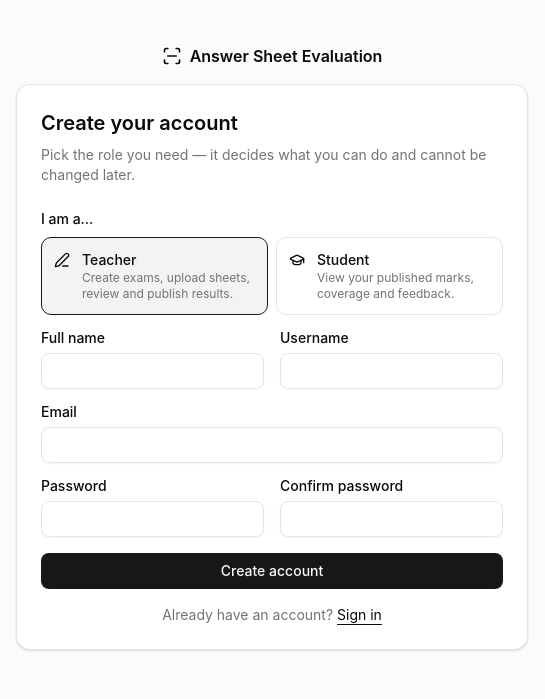
Test: Signup › surfaces a field-keyed 400 from the server
Step 1. Type "A Deepika" into the field labelled "Full name" → coordinates (152, 371), box left=41, top=353, right=264, bottom=389
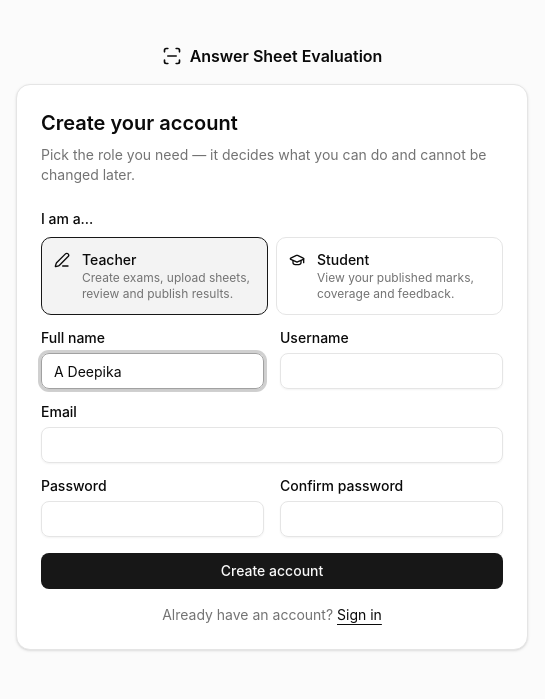
Step 2. Type "deepika" into the field labelled "Username" → coordinates (392, 371), box left=280, top=353, right=503, bottom=389
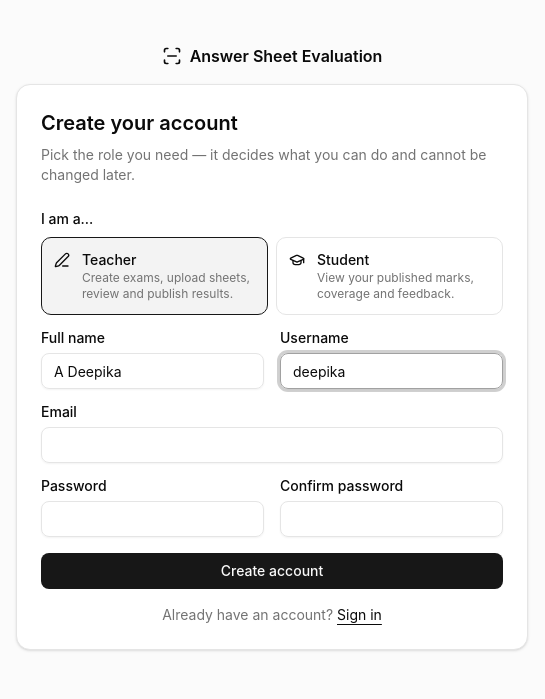
Step 3. Type "deepika@bmsit.in" into the field labelled "Email" → coordinates (272, 445), box left=41, top=427, right=503, bottom=463
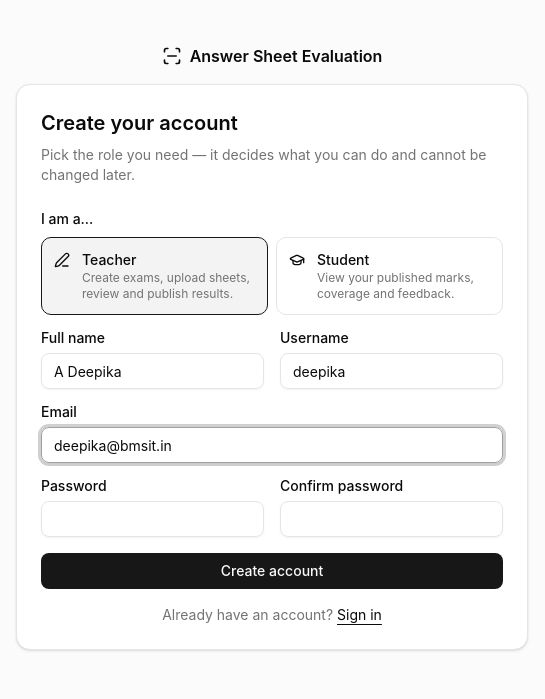
Step 4. Type "correct-horse" into the password field labelled "Password" → coordinates (152, 519), box left=41, top=501, right=264, bottom=537
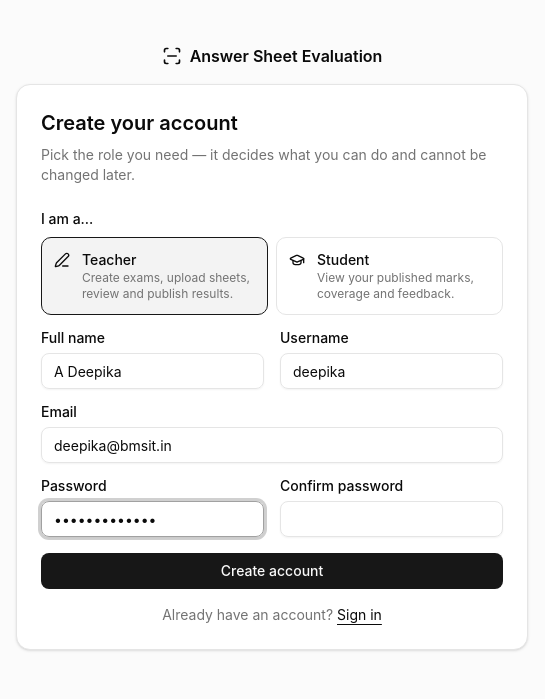
Step 5. Type "correct-horse" into the password field labelled "Confirm password" → coordinates (392, 519), box left=280, top=501, right=503, bottom=537
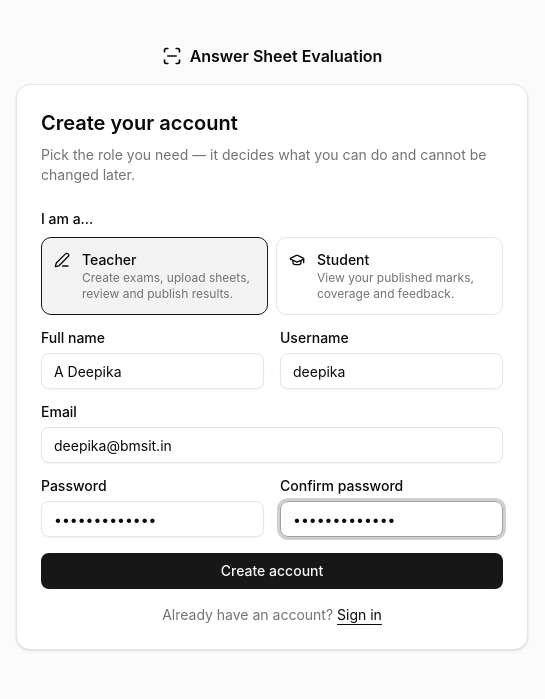
Step 6. Click the button "Create account" → coordinates (272, 571), box left=41, top=553, right=503, bottom=589
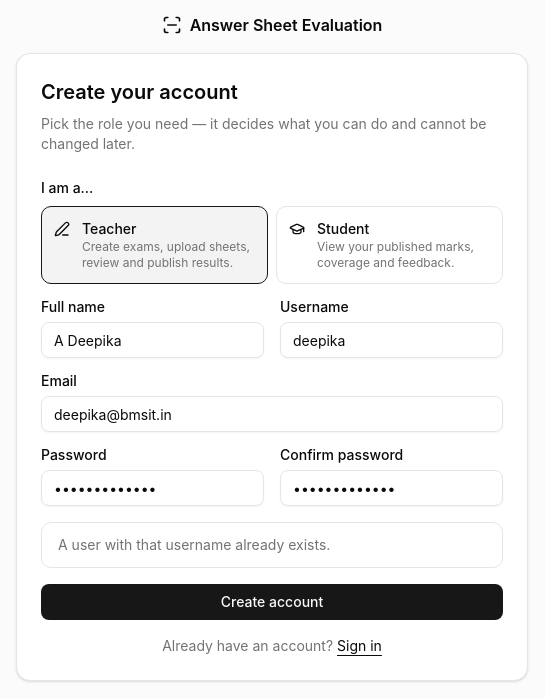
Check: the text "A user with that username already exists." is shown, box left=58, top=536, right=330, bottom=553
